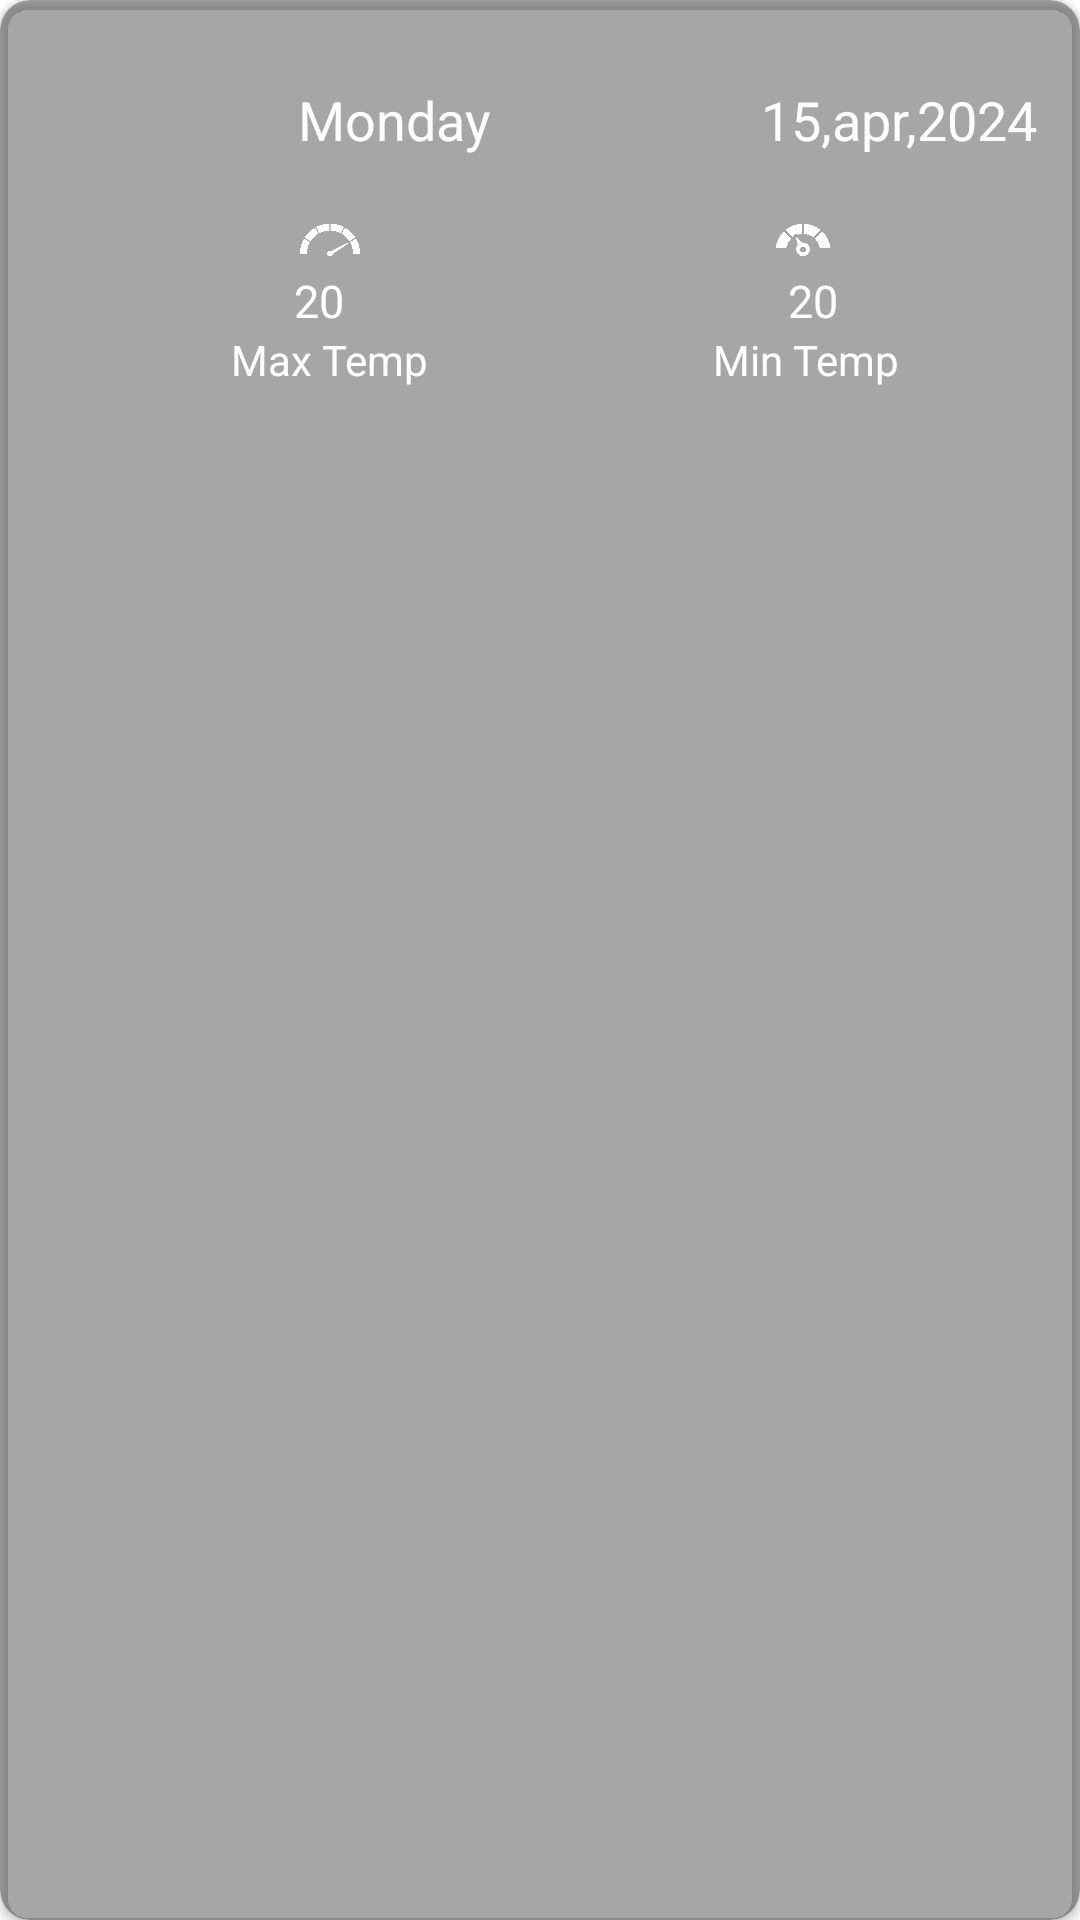

Named icons in this screenshot (1080*1920) and their centers, (x=x, y=y):
speed: (x=803, y=240)
speedometer: (x=330, y=240)
